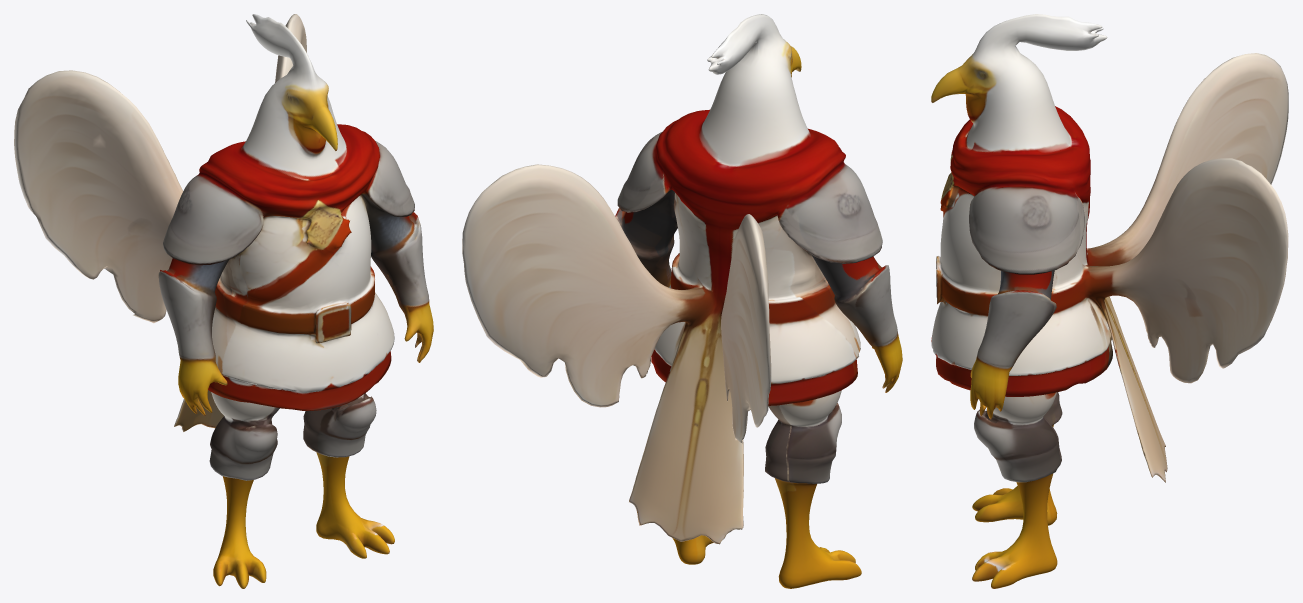
File: clean-hero-chicken.glb
3 renders of one model, left to right at view 1: azimuth 30°, elevation 25°; view 2: azimuth 150°, elevation 25°; view 3: azimuth 270°, elevation 25°, orthographic. The views are drawn at different scales.
Parts seen in each view (by area): view 1: model; view 2: model; view 3: model.
Boxes of the visible parts, bbox=[...] form: model: bbox=[14, 14, 433, 588]; model: bbox=[462, 14, 902, 588]; model: bbox=[931, 14, 1288, 588].
Size of the model in its own units: 1.11 by 1.9 by 1.15.
Materials: 1 (1 with a texture image).
